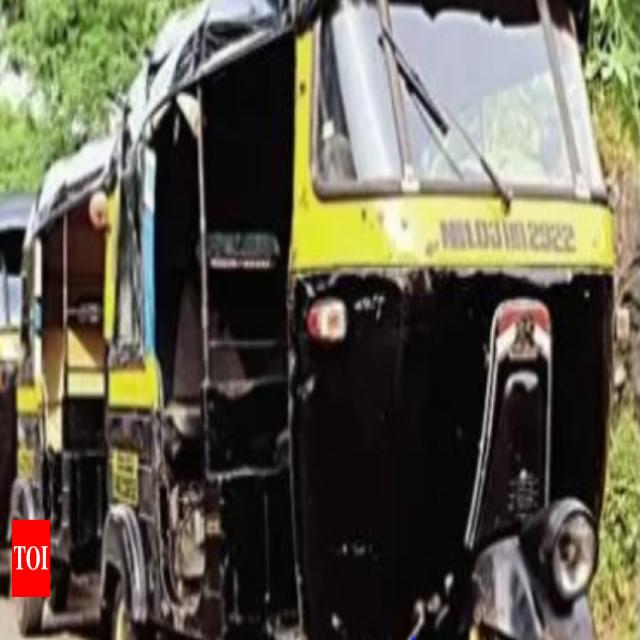autorickshaw: (100, 2, 616, 640), (18, 136, 118, 606)
